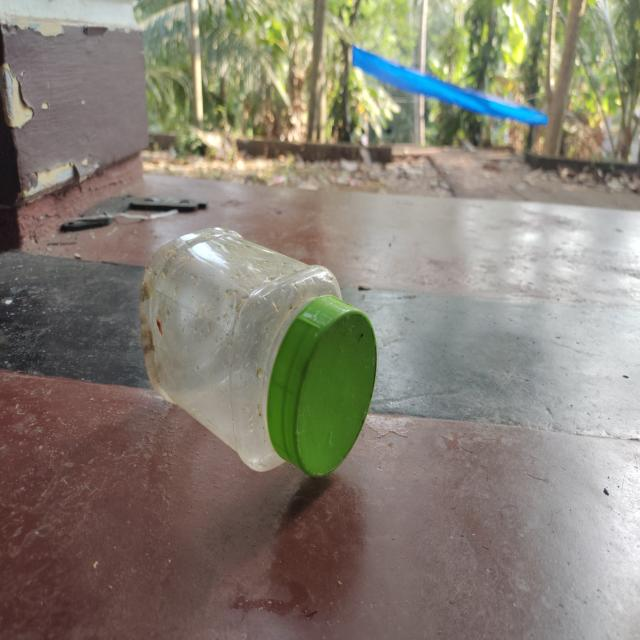plastic: (142, 226, 379, 480)
